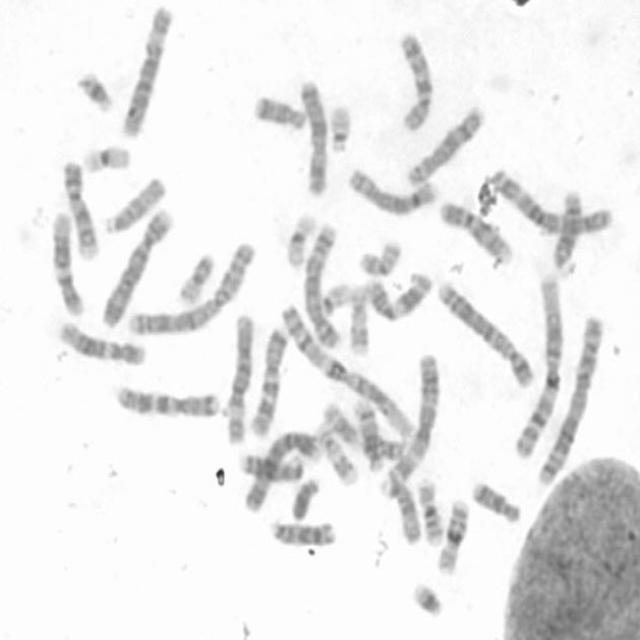A1: (279, 302, 416, 442), (511, 271, 567, 464)
A2: (125, 238, 257, 338), (536, 315, 604, 486)
A3: (378, 352, 439, 500), (490, 167, 616, 238)
B4: (99, 205, 174, 333), (242, 429, 325, 515)
B5: (436, 278, 536, 391), (303, 223, 342, 349)
C10: (399, 31, 436, 132)
C11: (319, 401, 407, 462), (366, 272, 434, 322)
C12: (59, 321, 148, 367), (49, 212, 85, 317)
C6: (120, 4, 174, 138), (224, 313, 255, 446)
C7: (246, 327, 290, 441), (115, 382, 221, 420)
C8: (405, 105, 485, 188), (346, 167, 441, 217)
C9: (437, 201, 514, 267), (61, 160, 100, 262)
D13: (235, 450, 306, 484), (270, 518, 336, 548)
D14: (550, 190, 584, 278), (351, 398, 385, 471)
D15: (103, 176, 166, 238), (384, 466, 423, 547)
E16: (437, 498, 471, 578), (415, 477, 446, 548)
E17: (314, 421, 359, 487), (349, 281, 371, 358)
E18: (470, 480, 521, 524), (252, 92, 308, 131)
F19: (284, 210, 317, 269), (80, 144, 132, 177)
F20: (176, 253, 217, 305), (356, 239, 403, 279)
G21: (76, 70, 115, 116), (411, 582, 446, 620)
G22: (329, 99, 353, 154), (319, 280, 351, 317)
X: (298, 78, 330, 196)
Y: (290, 474, 320, 524)
